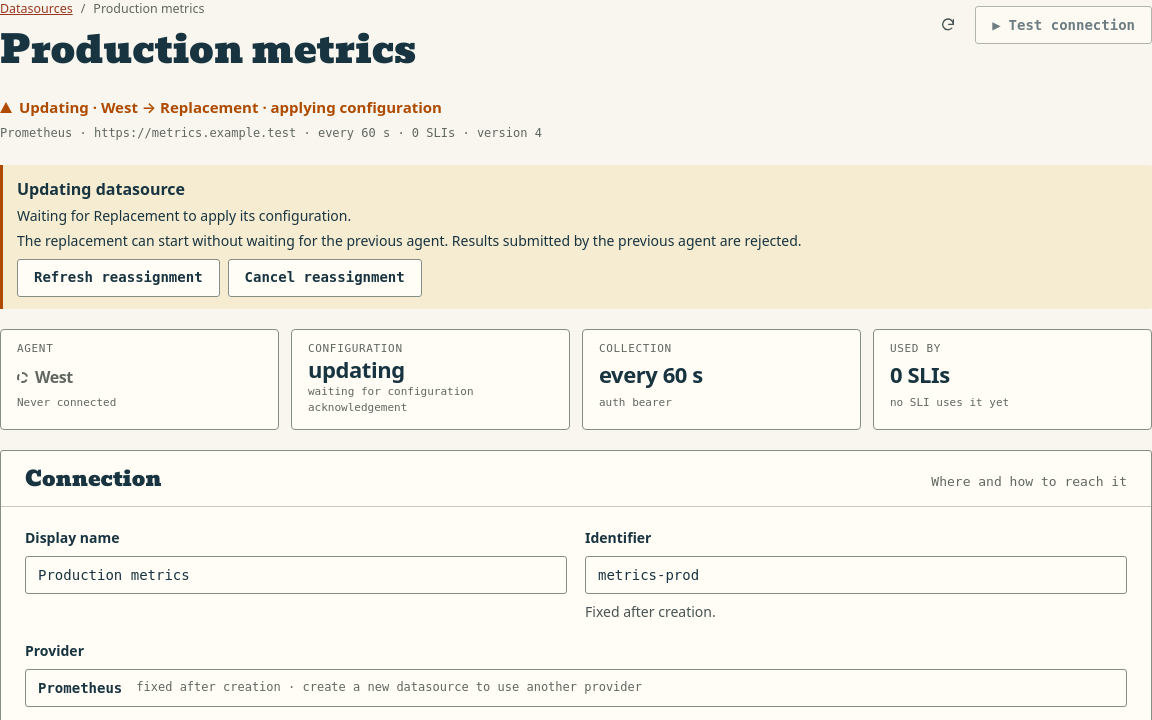
it: datasource page › refreshes a pending handoff before presenting the replacement as active
This screenshot has width=1152, height=720.
Expected: the text "Waiting for Replacement to apply its configuration." is shown, [17, 206, 351, 225]
Expected: the text "replacement can start without waiting for the previous agent" is shown, [17, 231, 802, 250]
Click the button "Refresh reassignment".
click(118, 278)  # box [17, 259, 220, 297]
(page scrolled)
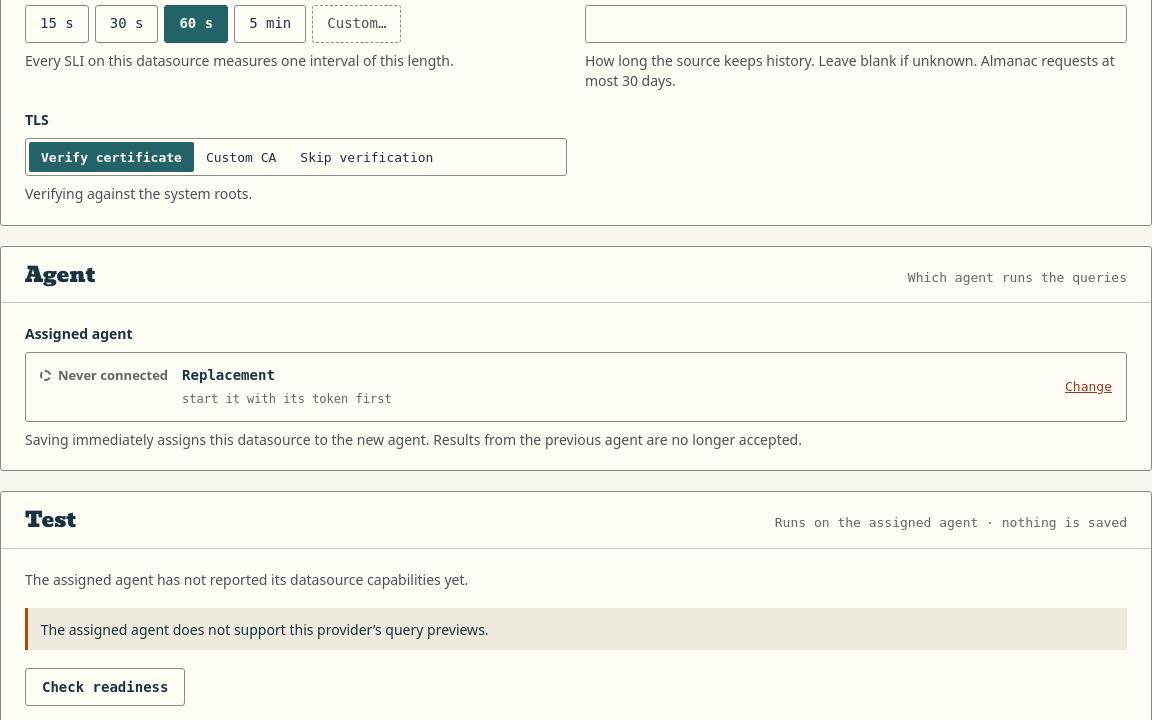
Now the heading "Updating datasource" is gone
Now the text "Replacement" is shown, box [182, 367, 275, 383]
